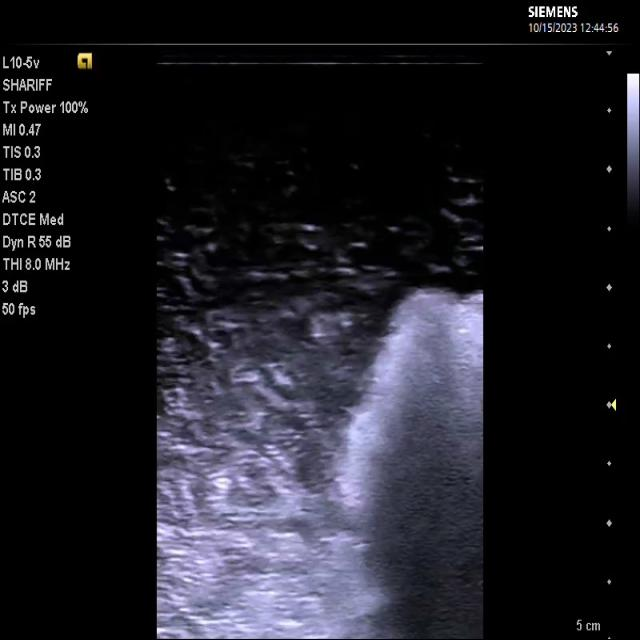tissue: (306, 290, 483, 638)
